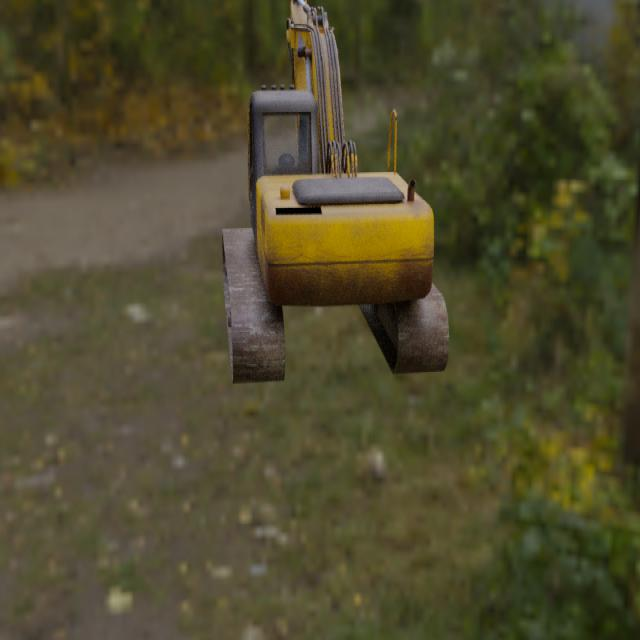excavator: (221, 0, 449, 385)
